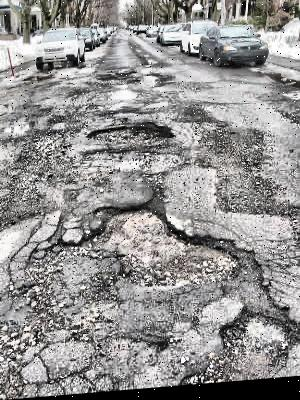pothole: (76, 192, 246, 295), (217, 310, 293, 366), (85, 123, 172, 153)
